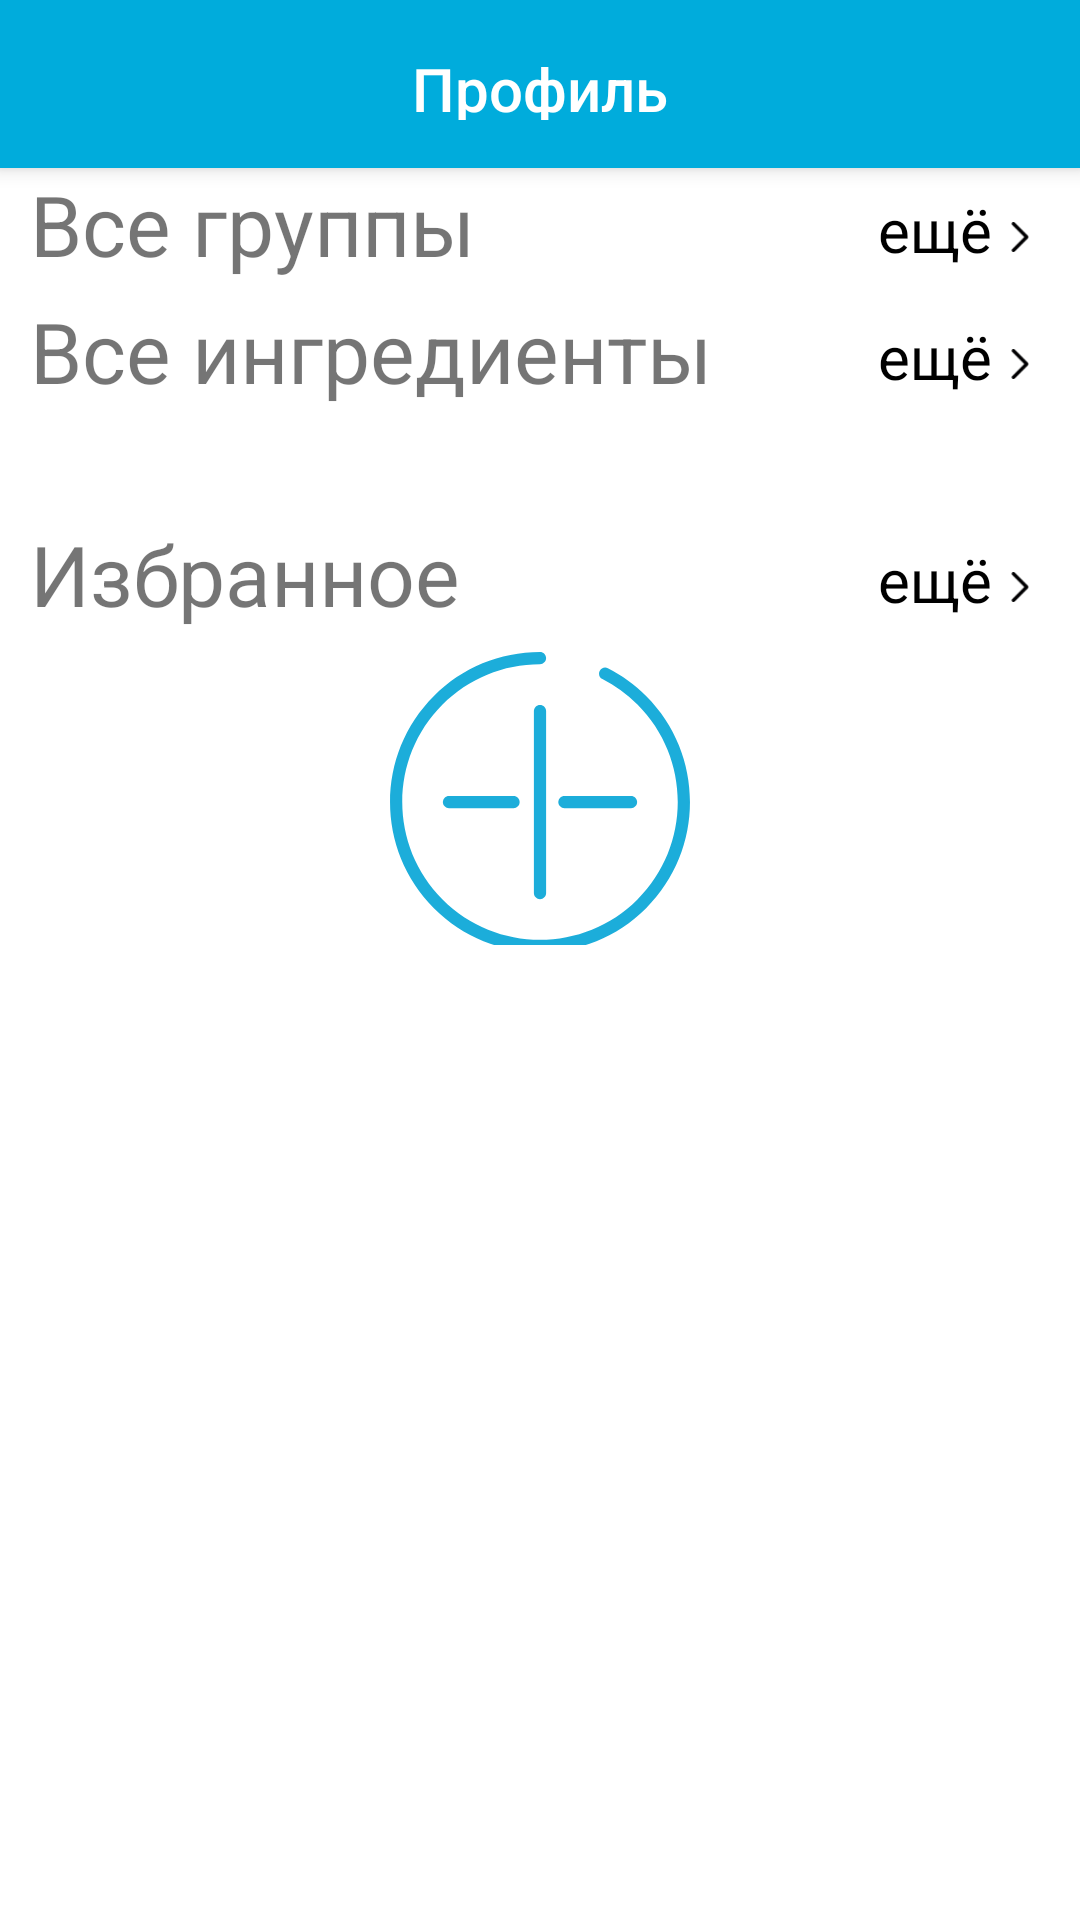

Named icons in this screenshot (1080 × 1920) and their centers, (x=x, y=y):
more: (x=1020, y=237), (x=1020, y=364), (x=1020, y=587)
plus: (x=540, y=798)
